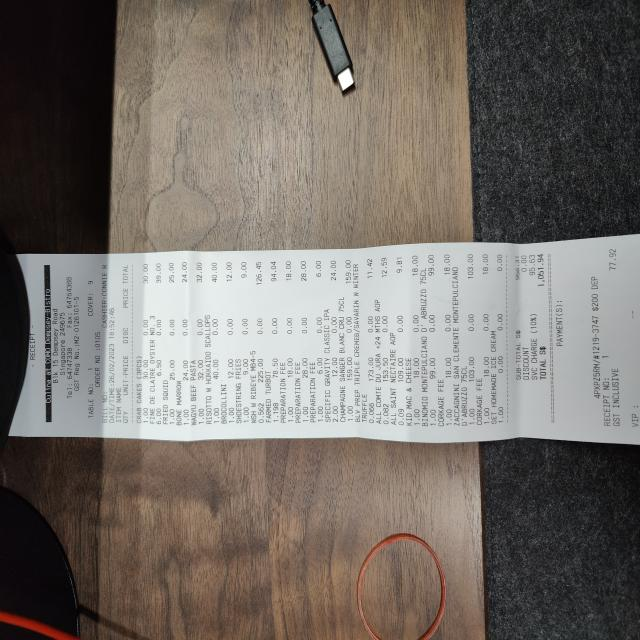bill_region: (134, 248, 548, 432)
